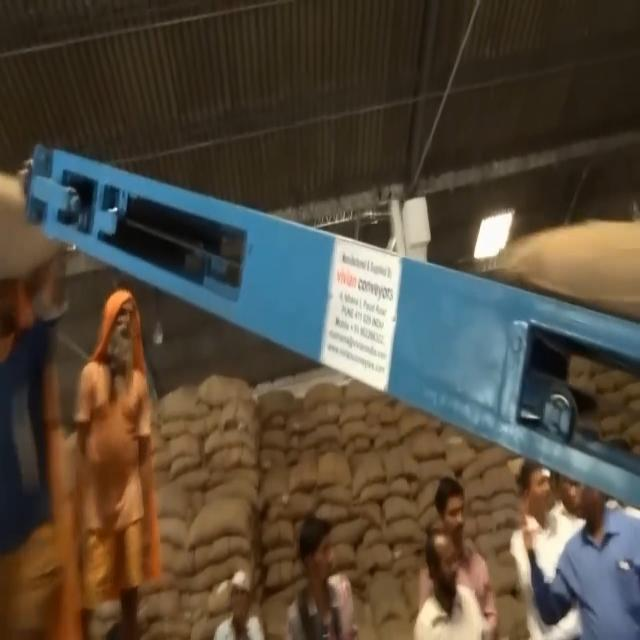gunny_bag: (470, 218, 640, 325), (186, 494, 253, 546), (363, 578, 417, 626), (196, 372, 253, 412), (404, 426, 448, 464), (203, 428, 257, 457), (344, 450, 390, 484), (157, 384, 201, 418), (316, 450, 353, 490), (376, 494, 424, 522), (358, 522, 418, 544), (287, 458, 323, 492), (168, 448, 206, 480), (286, 409, 340, 431), (380, 492, 418, 520)
